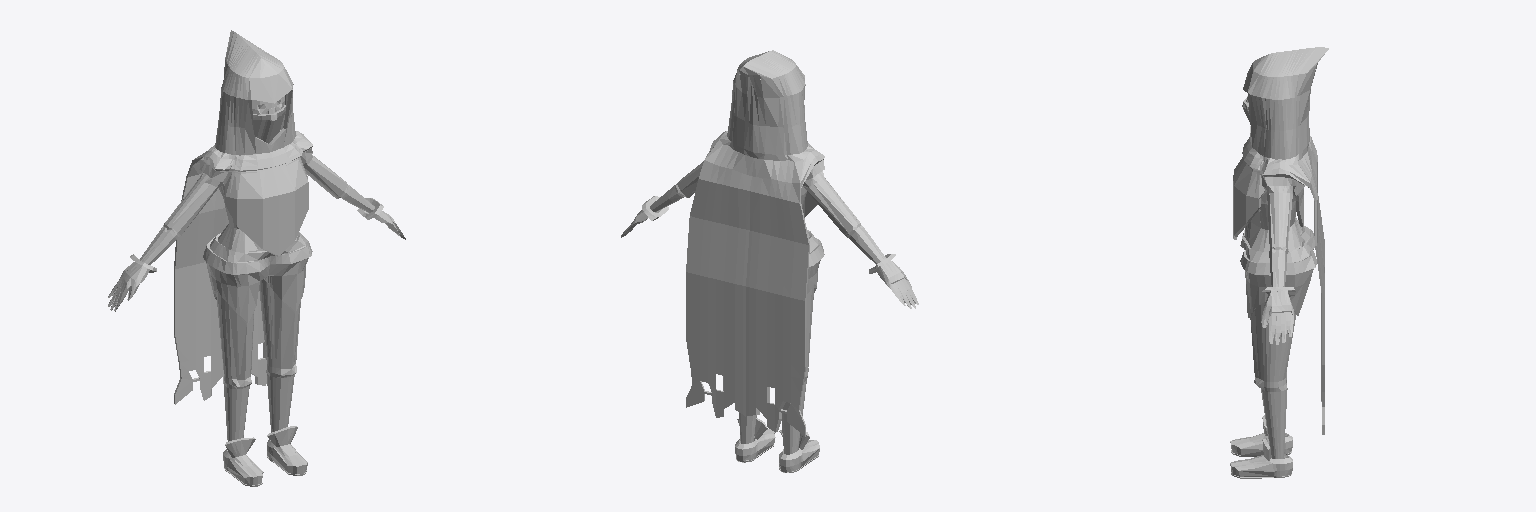
File: Lex_Low.obj
The picture shows the model from 3 angles: view 1: azimuth 30°, elevation 25°; view 2: azimuth 150°, elevation 25°; view 3: azimuth 270°, elevation 25°; orthographic projection.
Visible parts, largest first — view 1: pSphere8; view 2: pSphere8; view 3: pSphere8.
Part boxes in pixels (x1,y1,x2,y2): pSphere8: (108,30,405,486); pSphere8: (621,50,918,472); pSphere8: (1230,47,1328,478).
Size of the model in its own units: 6.76 by 9.19 by 1.99.